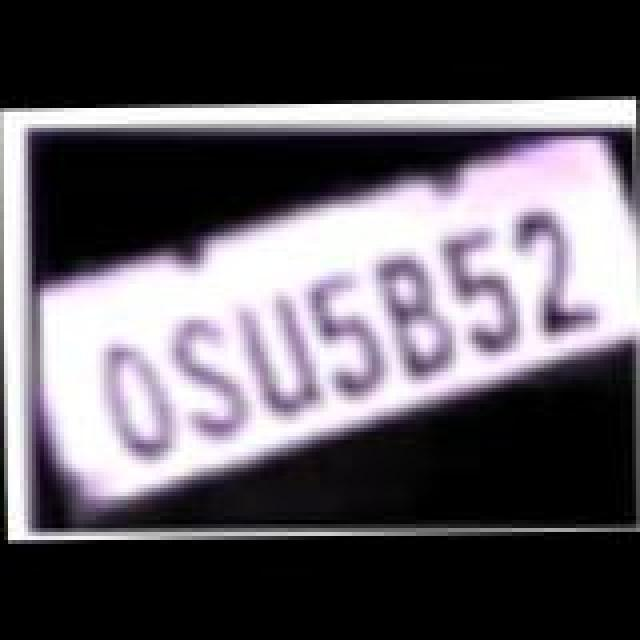2: (508, 204, 608, 340)
5: (434, 228, 530, 360), (306, 270, 394, 402)
B: (368, 252, 460, 384)
O: (94, 342, 186, 466)
S: (162, 318, 254, 446)
U: (234, 290, 330, 422)
